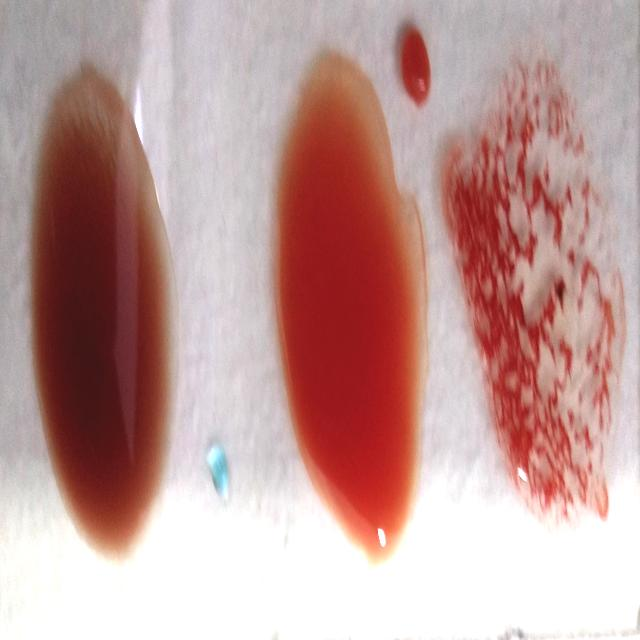D: (468, 62, 617, 522)
